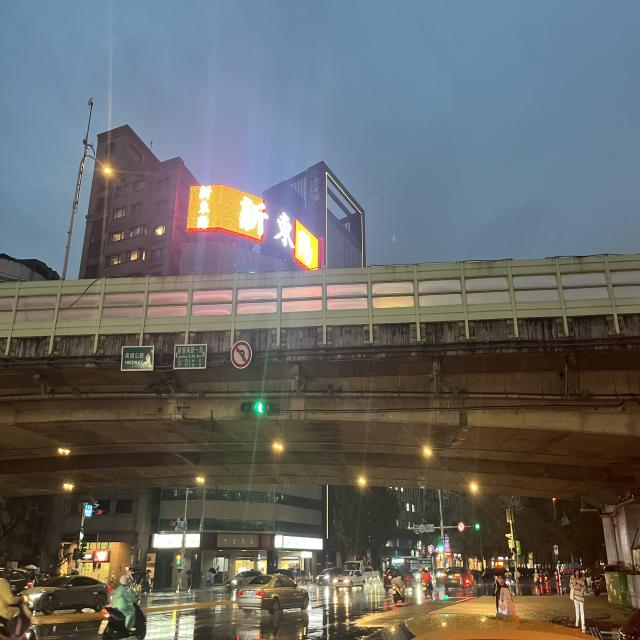green light: (240, 401, 272, 415)
